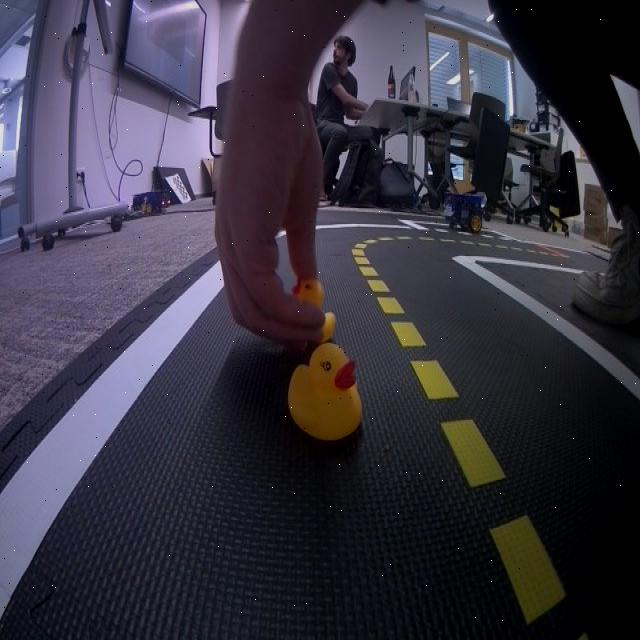bot: (441, 189, 487, 233)
duckie: (287, 342, 364, 442), (289, 275, 338, 342)
park: (399, 219, 522, 241)
